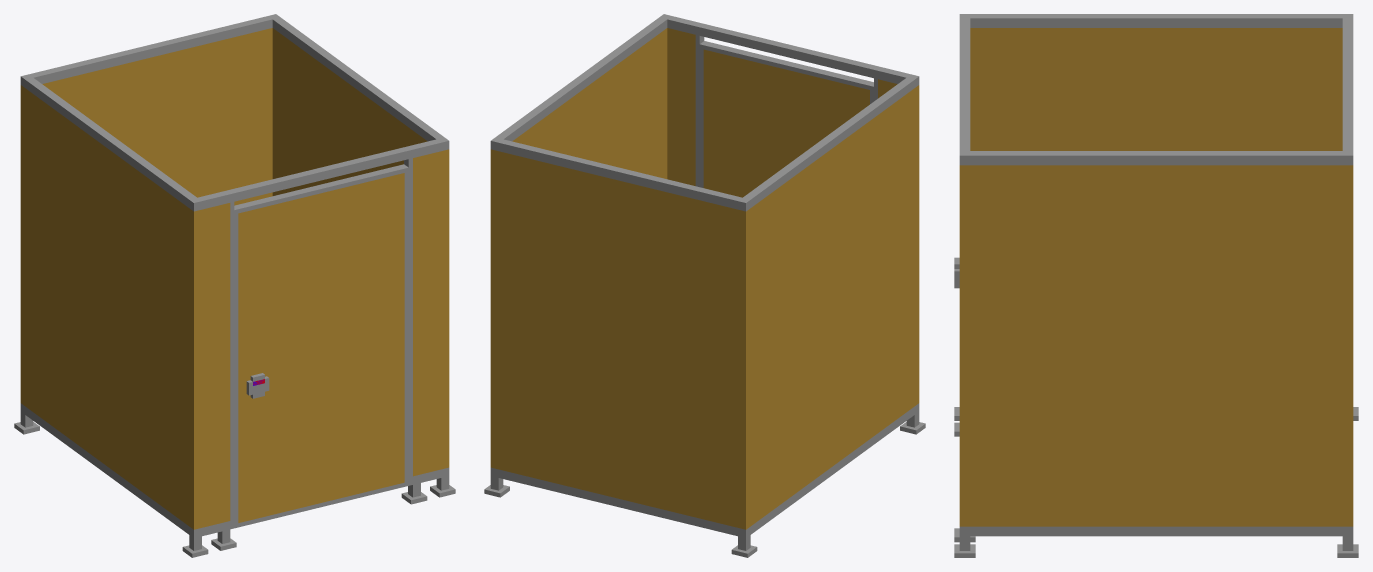
File: Toilet1-4-1.fbx
3 views of the same model, side by side, from view 1: azimuth 30°, elevation 25°; view 2: azimuth 150°, elevation 25°; view 3: azimuth 270°, elevation 25° (orthographic). The views are drawn at different scales.
Parts seen in each view (by area): view 1: Toilet1-4-1.001, Toilet1-4-1.002; view 2: Toilet1-4-1.001, Toilet1-4-1.002; view 3: Toilet1-4-1.001.
Part boxes in pixels (x1=…): Toilet1-4-1.001: x1=14, y1=14, x2=455, y2=557; Toilet1-4-1.002: x1=234, y1=164, x2=408, y2=528; Toilet1-4-1.001: x1=484, y1=14, x2=925, y2=557; Toilet1-4-1.002: x1=699, y1=41, x2=873, y2=197; Toilet1-4-1.001: x1=954, y1=14, x2=1358, y2=557.
Size of the model in its own units: 6.5 by 8.3 by 7.6.
